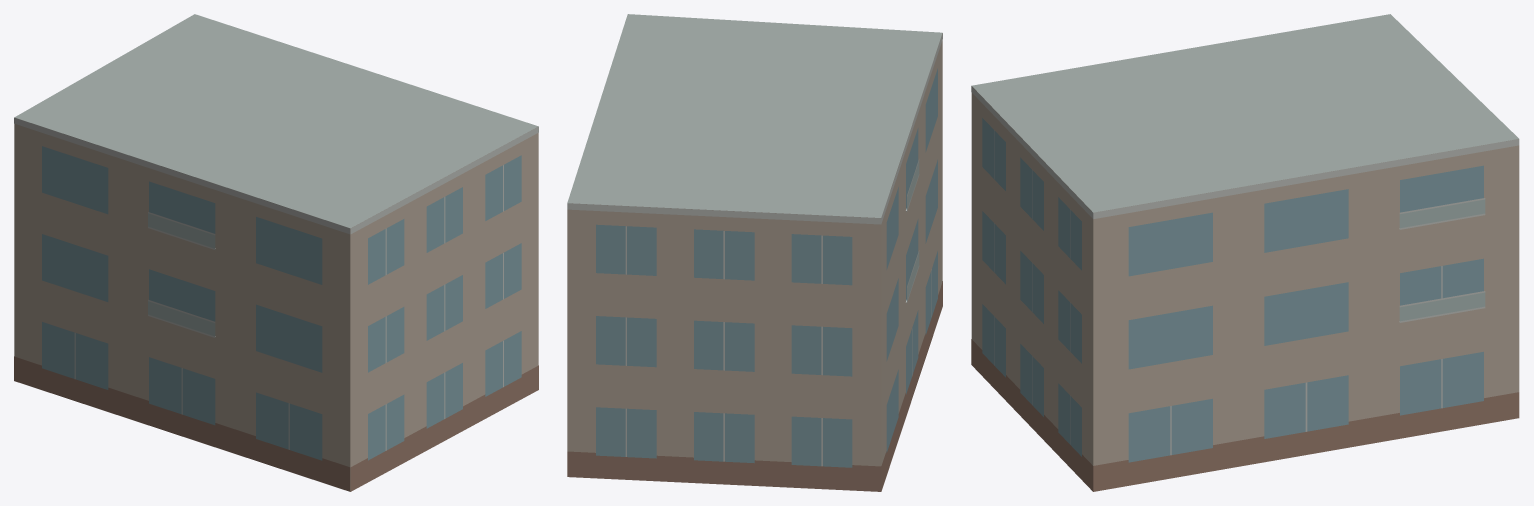
The model's file is survey-upis-32858050.glb.
3 views of the same model, side by side, from view 1: azimuth 30°, elevation 25°; view 2: azimuth 150°, elevation 25°; view 3: azimuth 270°, elevation 25° (orthographic). The views are drawn at different scales.
Parts seen in each view (by area): view 1: survey-upis-32858050.tmp; view 2: survey-upis-32858050.tmp; view 3: survey-upis-32858050.tmp.
Boxes of the visible parts, x1,y1,x2,y2 form: survey-upis-32858050.tmp: (14, 14, 538, 491); survey-upis-32858050.tmp: (567, 14, 942, 491); survey-upis-32858050.tmp: (971, 14, 1519, 491).
Bounding box in the file's own units: 15.88 × 10.4 × 18.51.
